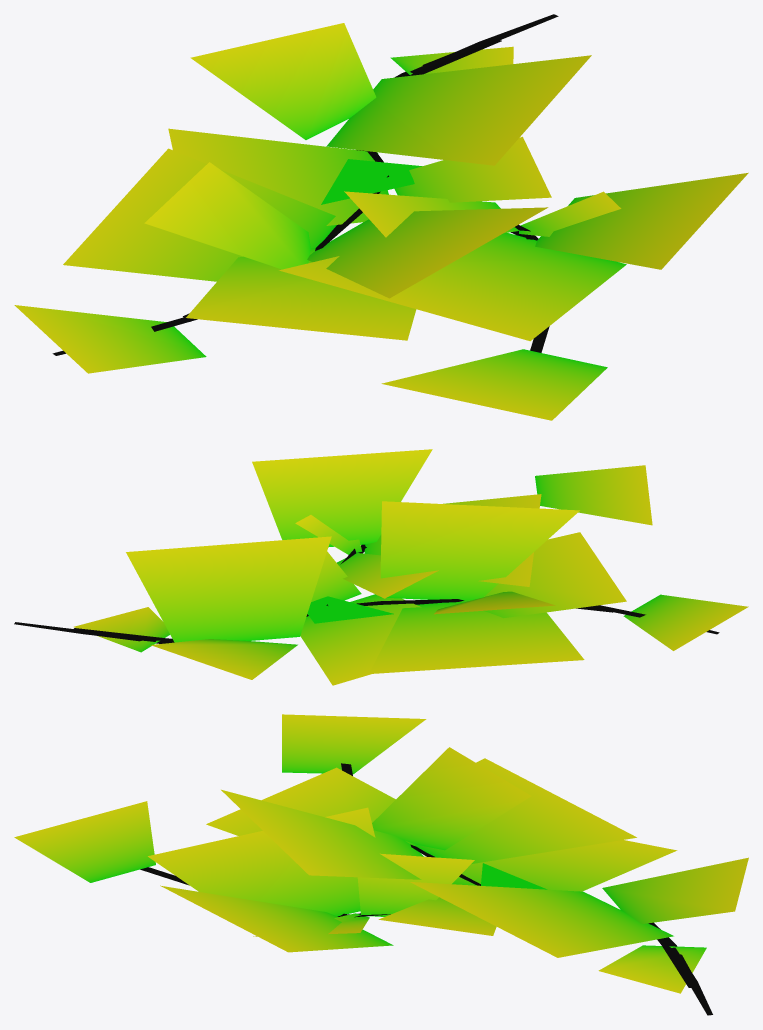
Rendered from Var8_LOD2.fbx.
The picture shows the model from 3 angles, top to bottom: view 1: azimuth 30°, elevation 25°; view 2: azimuth 150°, elevation 25°; view 3: azimuth 270°, elevation 25°; orthographic projection. The views are drawn at different scales.
Visible parts, largest first — view 1: Var8_LOD2; view 2: Var8_LOD2; view 3: Var8_LOD2.
Boxes of the visible parts, bbox=[...] form: Var8_LOD2: bbox=[14, 14, 748, 420]; Var8_LOD2: bbox=[14, 449, 748, 685]; Var8_LOD2: bbox=[14, 714, 748, 1015].
Bounding box in the file's own units: 24.21 × 1.81 × 25.64.
